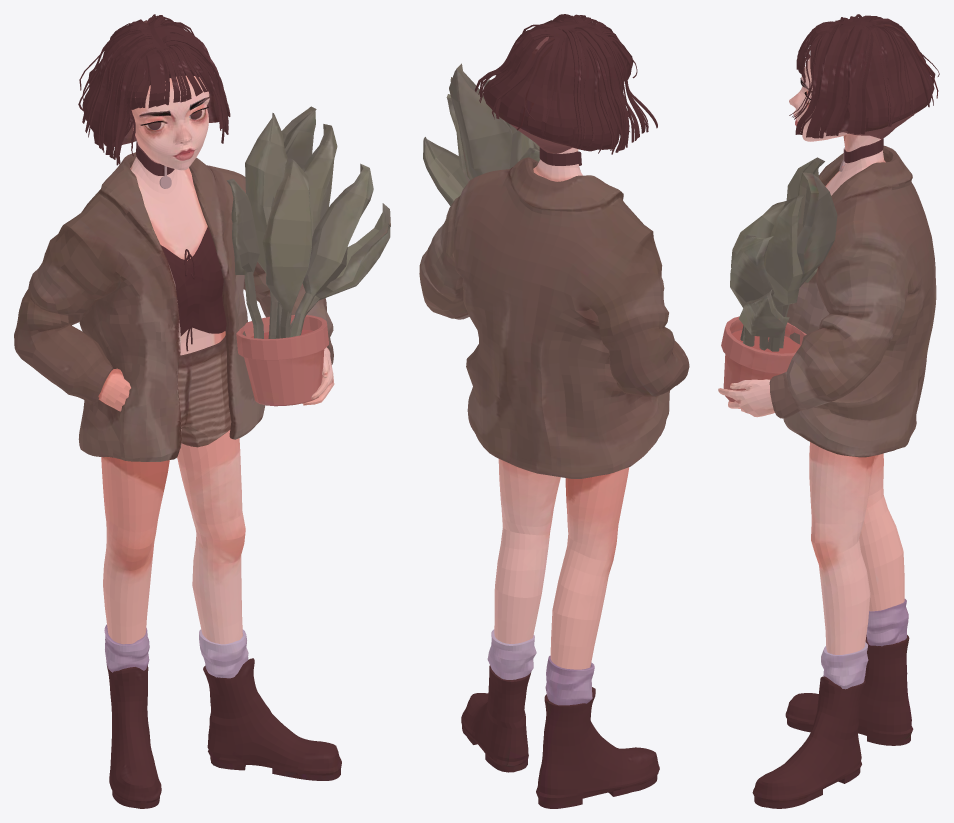
Rendered from matilda.glb.
3 renders of one model, left to right at view 1: azimuth 30°, elevation 25°; view 2: azimuth 150°, elevation 25°; view 3: azimuth 270°, elevation 25°, orthographic. The views are drawn at different scales.
Visible parts, largest first — view 1: polySurface1_surfaceShader1_0; view 2: polySurface1_surfaceShader1_0; view 3: polySurface1_surfaceShader1_0.
Part boxes in pixels (x1=…): polySurface1_surfaceShader1_0: x1=14, y1=14, x2=390, y2=808; polySurface1_surfaceShader1_0: x1=419, y1=14, x2=689, y2=808; polySurface1_surfaceShader1_0: x1=718, y1=14, x2=939, y2=808.
Size of the model in its own units: 82.65 by 191 by 52.97.
Materials: 1 (1 with a texture image).
